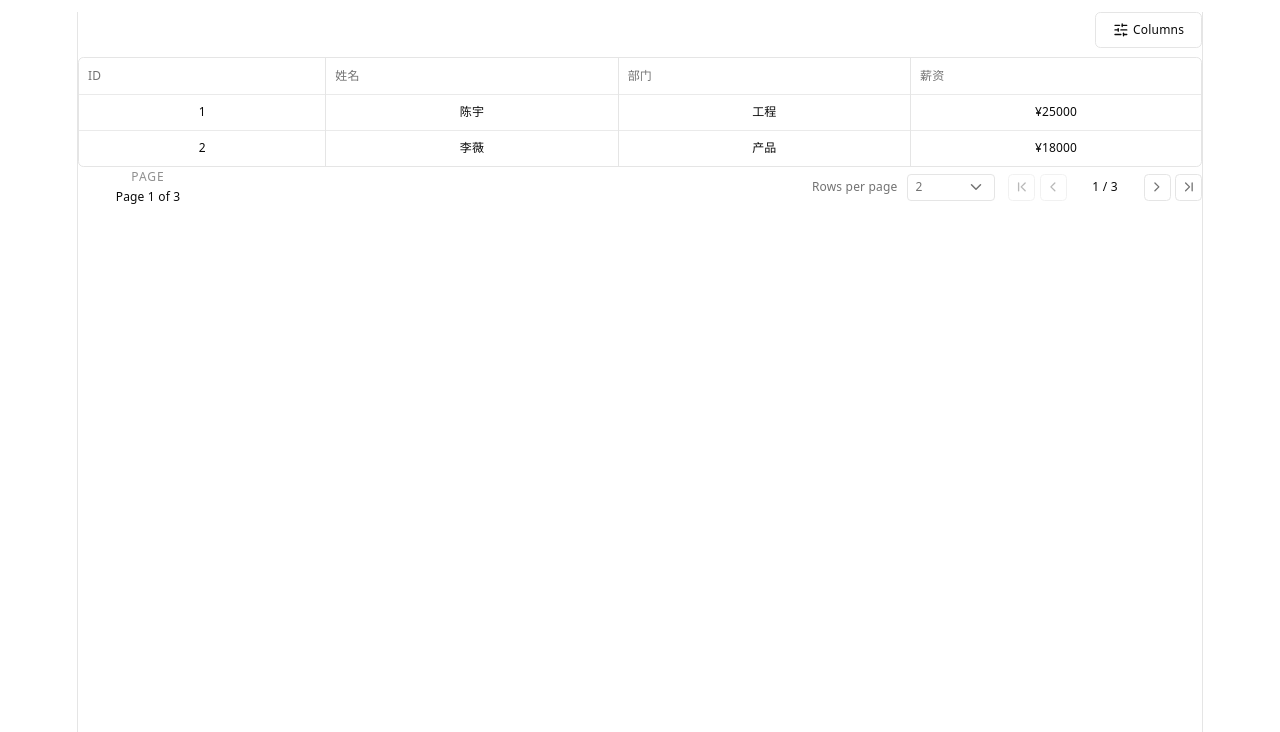
DataGrid — data mode › navigates pagination when enabled
This screenshot has width=1280, height=732.
Expected: the text "陈宇" is shown, left=460, top=103, right=484, bottom=120
Step 1. Click the button named "Go to next page" → click(1157, 187), box left=1144, top=174, right=1170, bottom=200
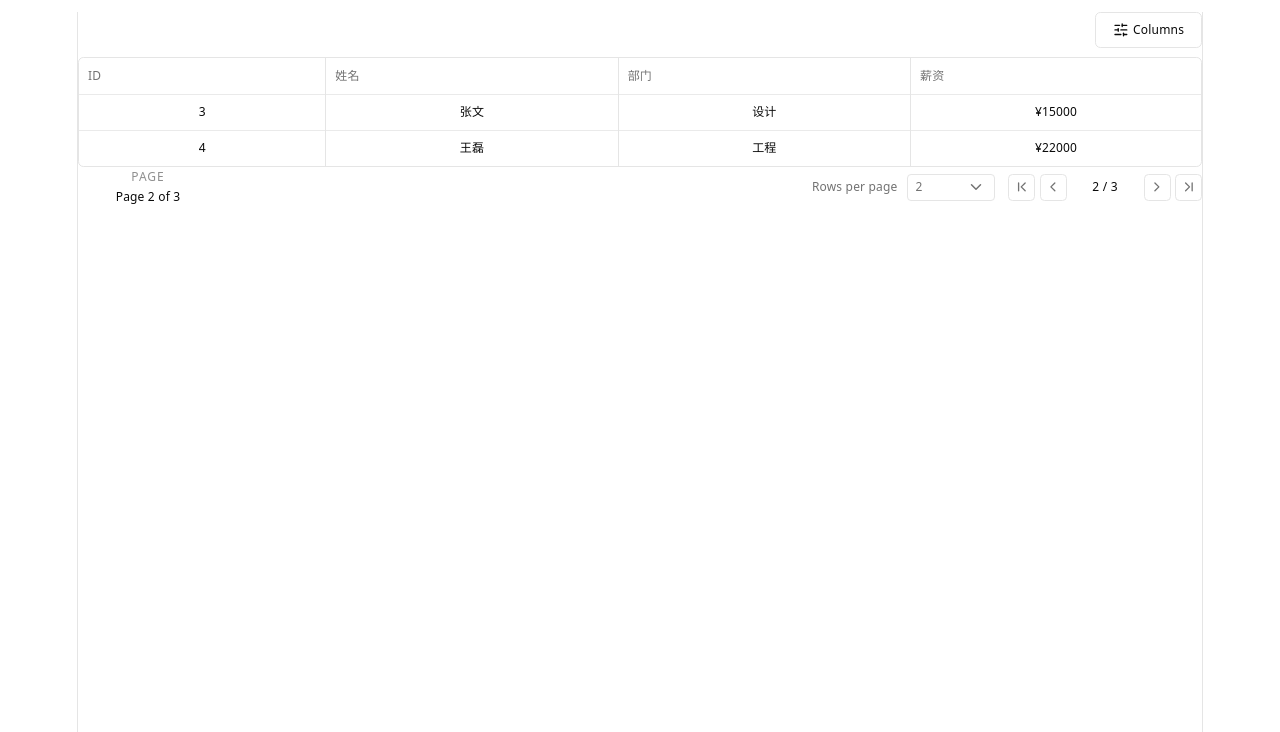
Now the text "陈宇" is gone
Now the text "张文" is shown, box left=460, top=103, right=484, bottom=120
